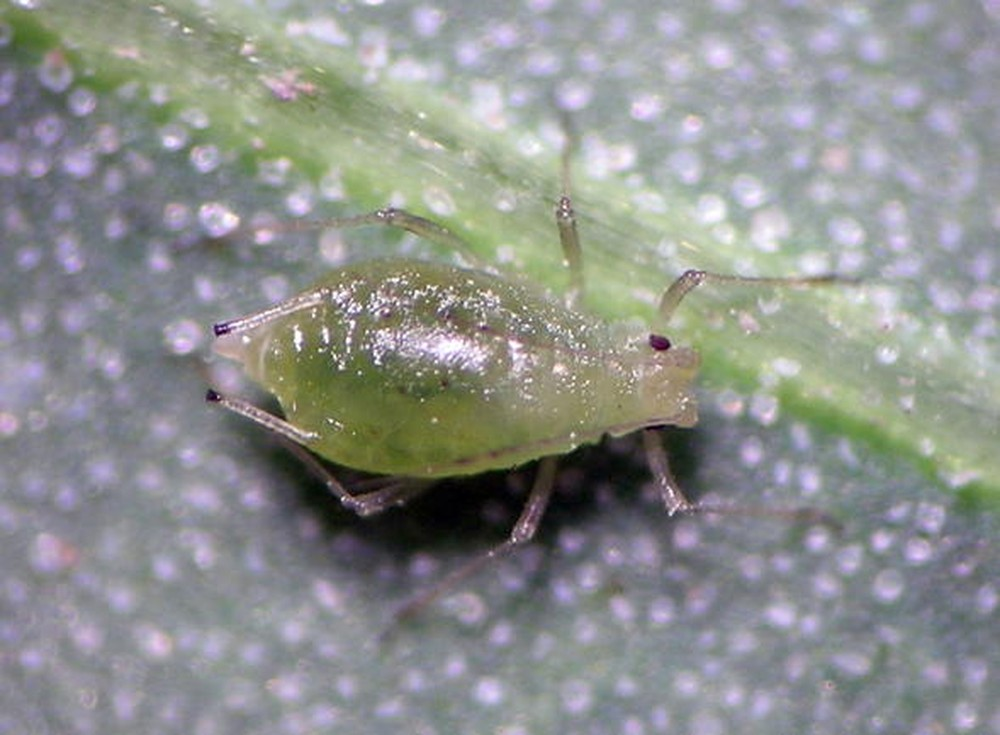Pulgon: (168, 181, 914, 645)
